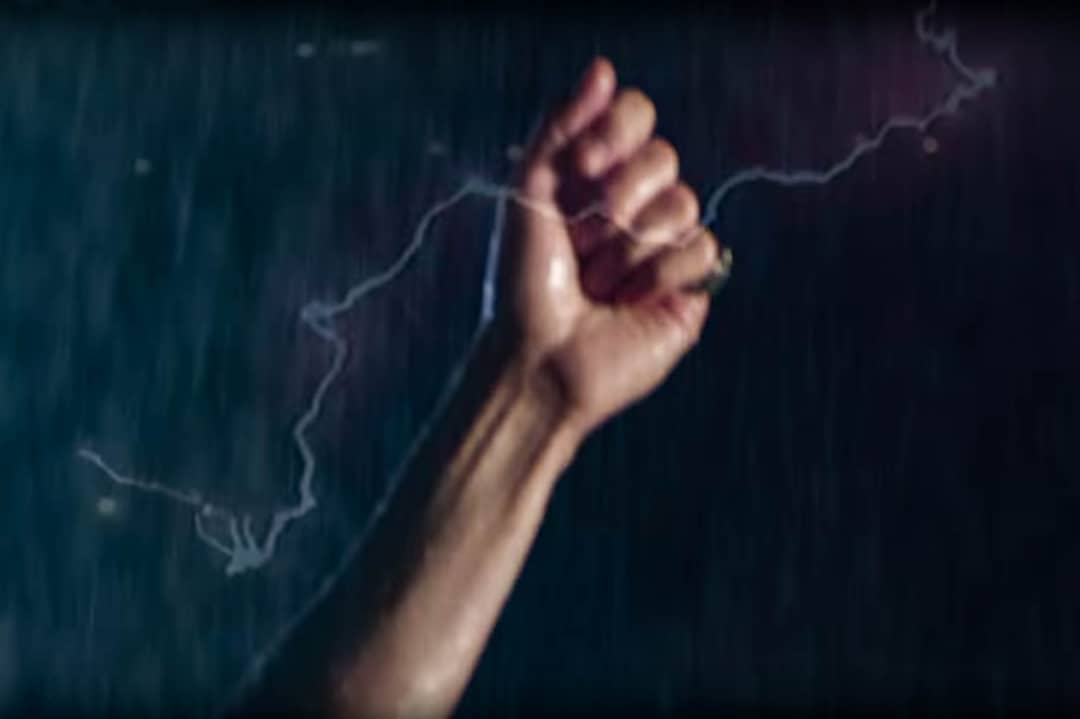hand: (520, 61, 706, 403)
